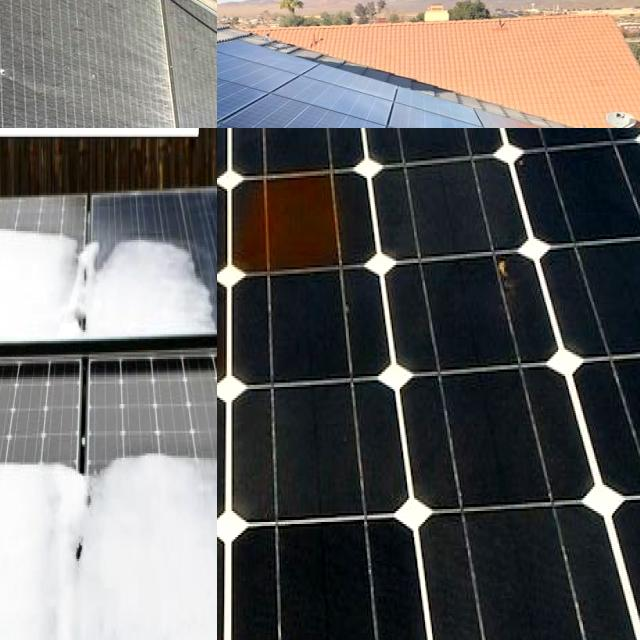crack: (251, 52, 445, 128), (217, 62, 436, 128)
dust: (63, 0, 153, 128), (0, 0, 51, 128), (167, 16, 217, 128)
panel: (18, 420, 84, 514), (155, 402, 203, 500), (96, 434, 148, 508), (66, 220, 111, 293), (8, 207, 62, 260), (159, 215, 204, 278), (118, 218, 150, 298), (0, 456, 27, 548), (0, 532, 23, 631), (0, 257, 22, 352), (64, 301, 98, 359), (0, 434, 29, 496), (191, 284, 217, 333), (0, 215, 19, 278), (72, 544, 95, 585), (70, 611, 87, 640)
shadow: (217, 159, 364, 279), (217, 287, 311, 395)
